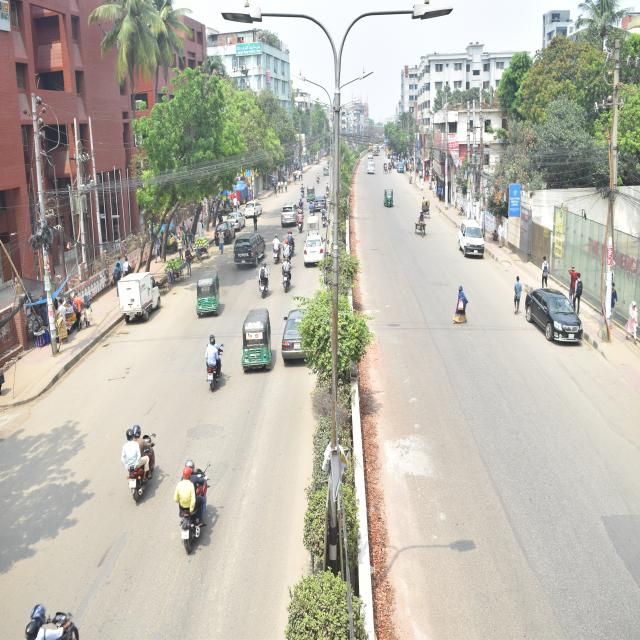bus: (368, 136, 386, 166)
car: (522, 253, 610, 392), (277, 298, 343, 405), (231, 219, 287, 294), (440, 213, 498, 272), (206, 212, 250, 265), (261, 186, 308, 233), (243, 184, 282, 234), (300, 239, 346, 275), (226, 194, 256, 242), (314, 188, 332, 218), (365, 144, 384, 171), (364, 154, 380, 181)
motorbike: (102, 402, 162, 516), (175, 448, 221, 580), (198, 340, 243, 411), (277, 266, 305, 312), (259, 252, 277, 310), (272, 229, 286, 274), (281, 223, 298, 259), (320, 171, 336, 209), (294, 182, 307, 214), (279, 236, 291, 270), (318, 214, 332, 239), (292, 206, 302, 240), (316, 170, 325, 200), (295, 193, 304, 222), (306, 207, 318, 224)
pickup-van: (109, 252, 161, 346), (394, 158, 408, 177)
